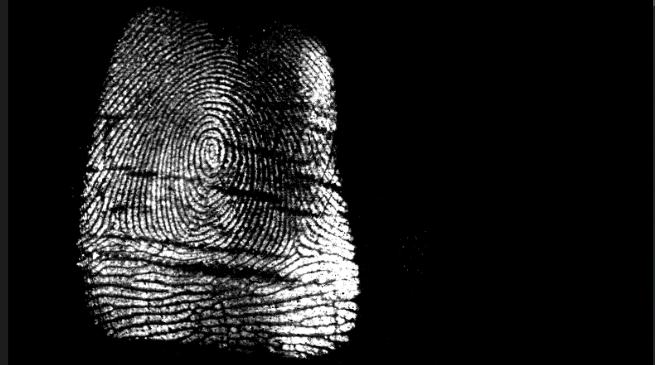deltas: (278, 220, 314, 267), (95, 205, 134, 244)
nucleo: (196, 134, 223, 168)
